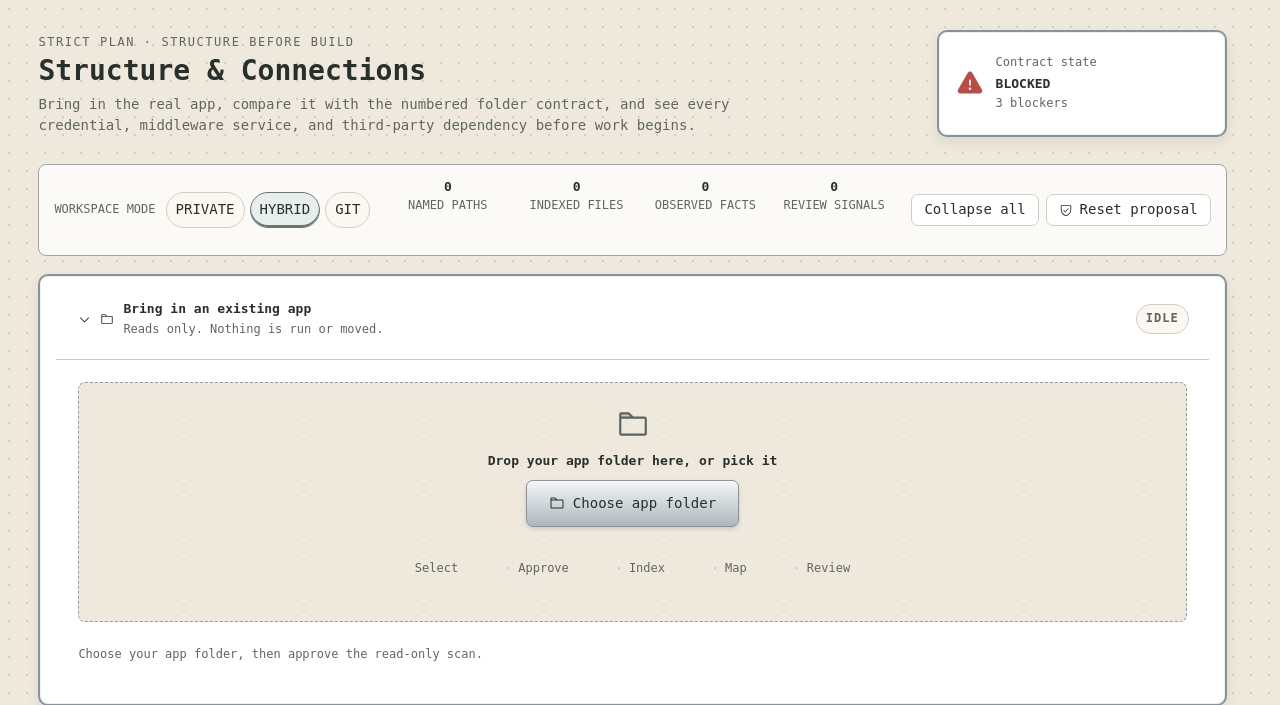
folder intake with an adjacent approval › Choose app folder then the adjacent Approve read-only scan registers, scans and captures the project
The width and height of the screenshot is (1280, 705).
Click the button "Choose app folder".
click(632, 503)  # box [526, 480, 739, 527]
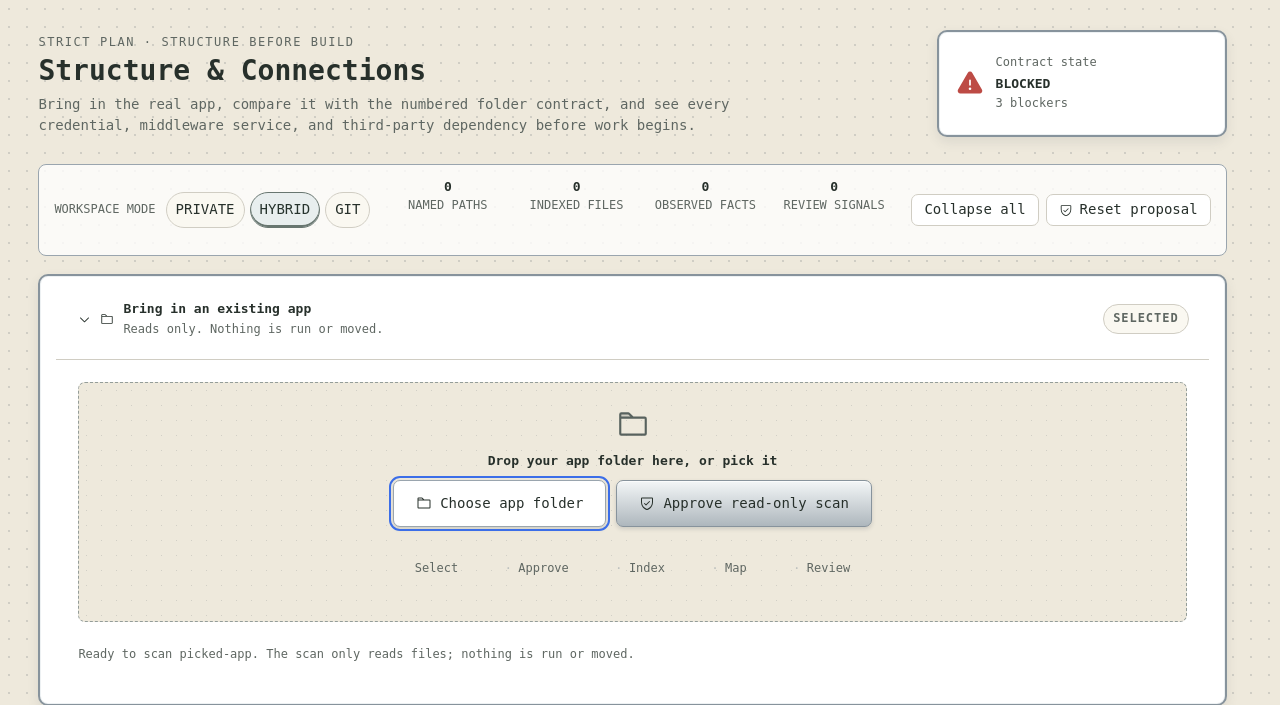
Click the button "Approve read-only scan".
click(744, 503)  # box [616, 480, 872, 527]
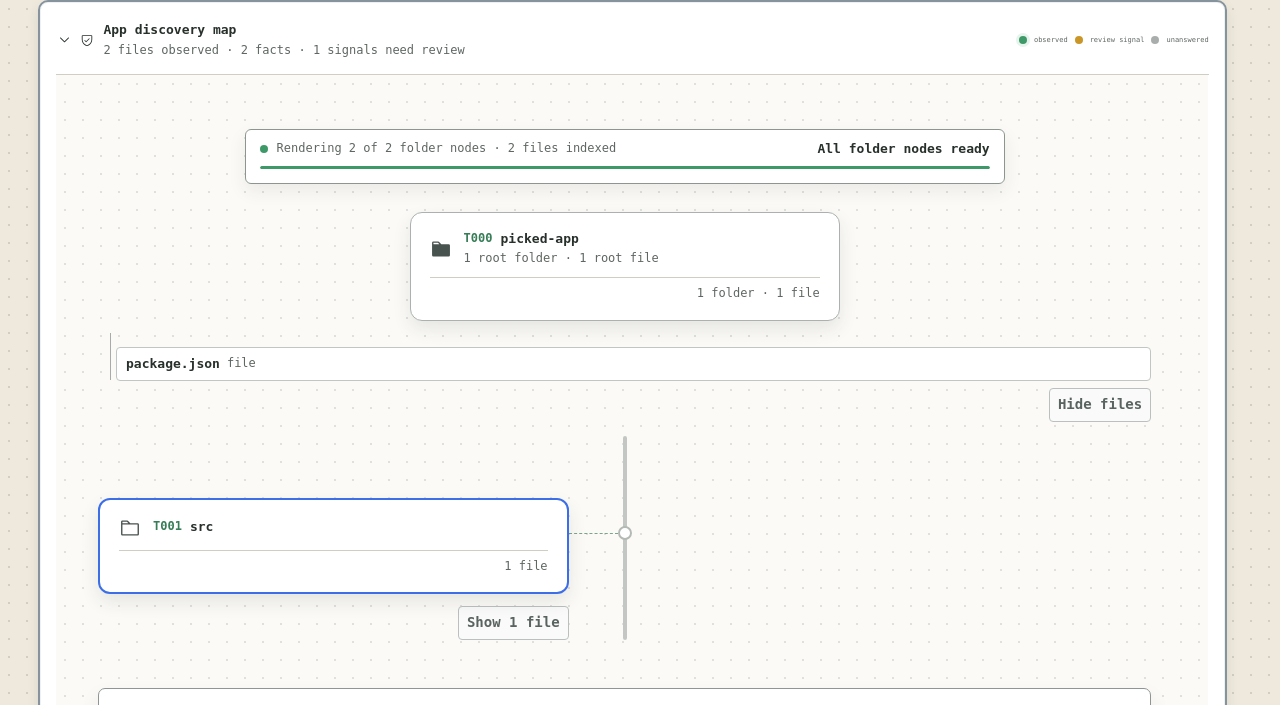
Result: the button "Approve read-only scan" is gone
